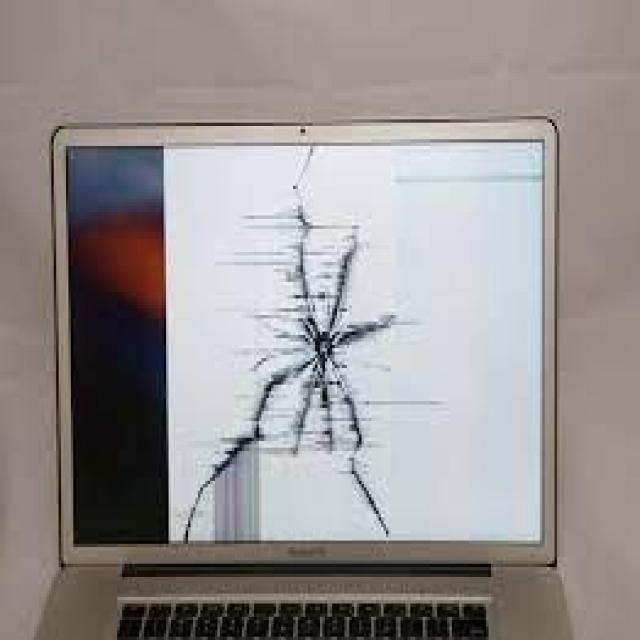Screen cracks: (161, 146, 445, 544)
